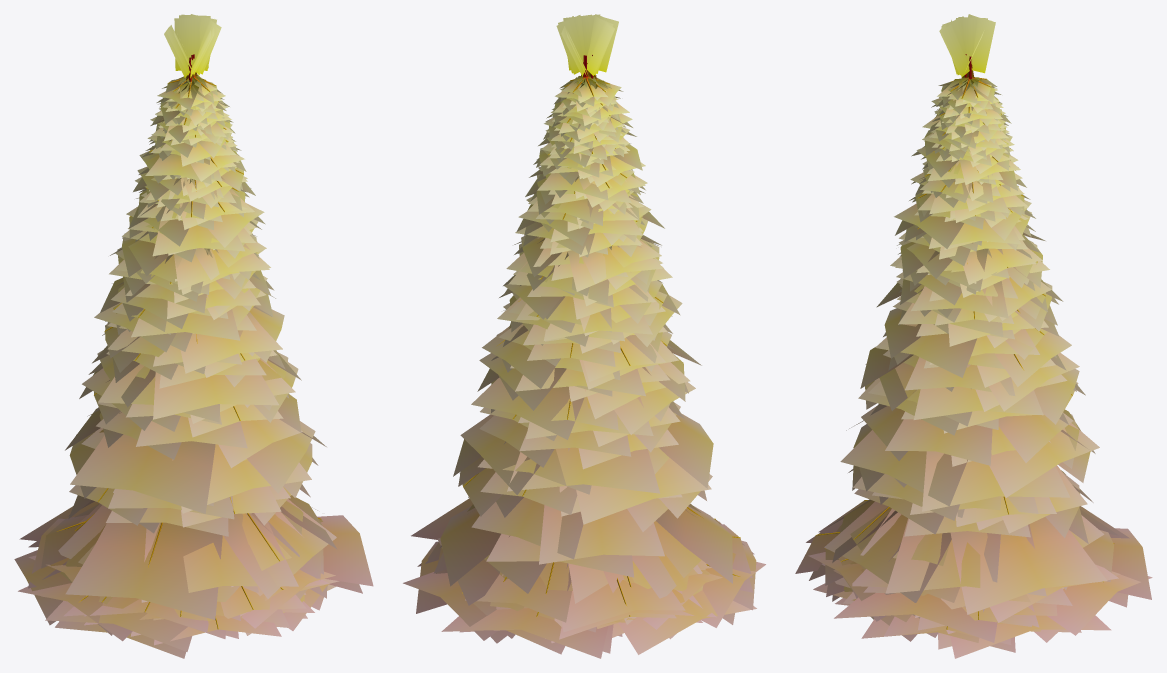
File: spruce.glb
3 views of the same model, side by side, from view 1: azimuth 30°, elevation 25°; view 2: azimuth 150°, elevation 25°; view 3: azimuth 270°, elevation 25° (orthographic).
Visible parts, largest first — view 1: spruce-2_LOD0, spruce-0_LOD0, spruce-hero_LOD0, spruce-1_LOD0; view 2: spruce-2_LOD0, spruce-0_LOD0, spruce-1_LOD0, spruce-hero_LOD0; view 3: spruce-2_LOD0, spruce-0_LOD0, spruce-1_LOD0, spruce-hero_LOD0.
Boxes of the visible parts, left/top/right/bottom form: spruce-2_LOD0: left=14, top=18, right=373, bottom=651; spruce-0_LOD0: left=18, top=15, right=362, bottom=658; spruce-hero_LOD0: left=41, top=14, right=328, bottom=645; spruce-1_LOD0: left=68, top=14, right=313, bottom=615; spruce-2_LOD0: left=411, top=14, right=756, bottom=658; spruce-0_LOD0: left=403, top=15, right=765, bottom=653; spruce-1_LOD0: left=435, top=14, right=710, bottom=638; spruce-hero_LOD0: left=425, top=16, right=754, bottom=654; spruce-2_LOD0: left=806, top=14, right=1151, bottom=658; spruce-0_LOD0: left=813, top=17, right=1152, bottom=652; spruce-1_LOD0: left=821, top=18, right=1093, bottom=633; spruce-hero_LOD0: left=795, top=16, right=1128, bottom=644.
Bounding box in the file's own units: 9.93 × 17.35 × 9.66.
